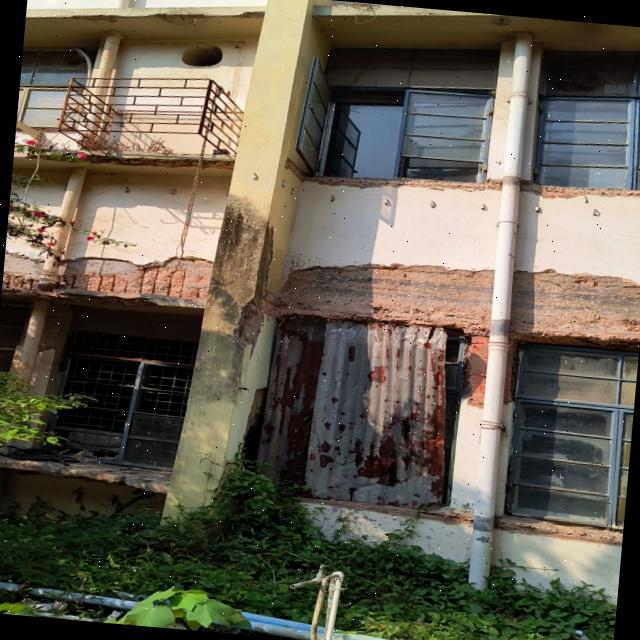Scaling: (273, 264, 492, 335), (509, 270, 640, 348), (302, 175, 501, 191), (520, 181, 640, 199), (83, 154, 197, 168), (202, 158, 232, 169), (44, 156, 65, 161)
Spalling: (60, 257, 212, 307), (140, 11, 264, 25), (2, 253, 43, 290), (57, 14, 138, 24), (491, 17, 511, 25)
